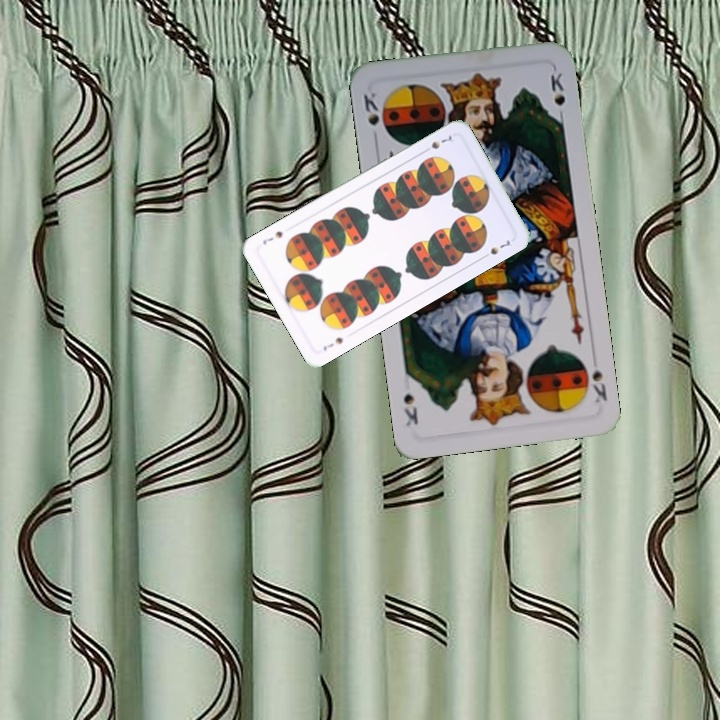S7: (419, 132, 454, 155), (319, 333, 346, 354)
SK: (359, 88, 382, 146), (588, 363, 610, 406)
